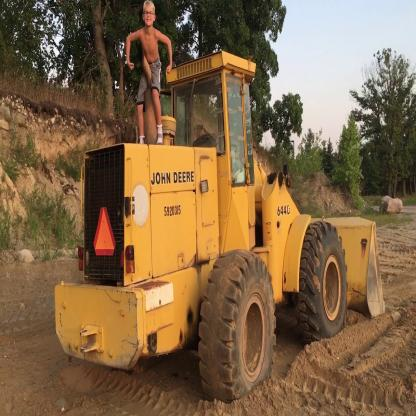bull_dozer/loader/grader: (41, 26, 394, 404)
